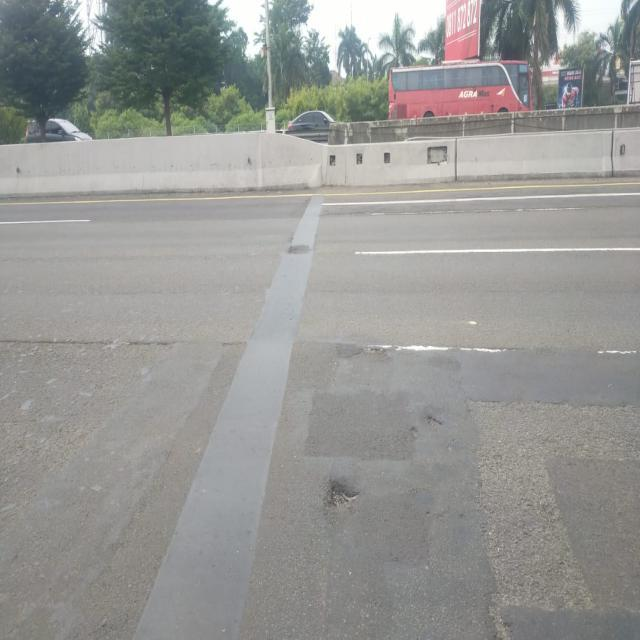Buraco: (321, 478, 364, 512), (358, 343, 389, 358), (422, 413, 447, 431)
